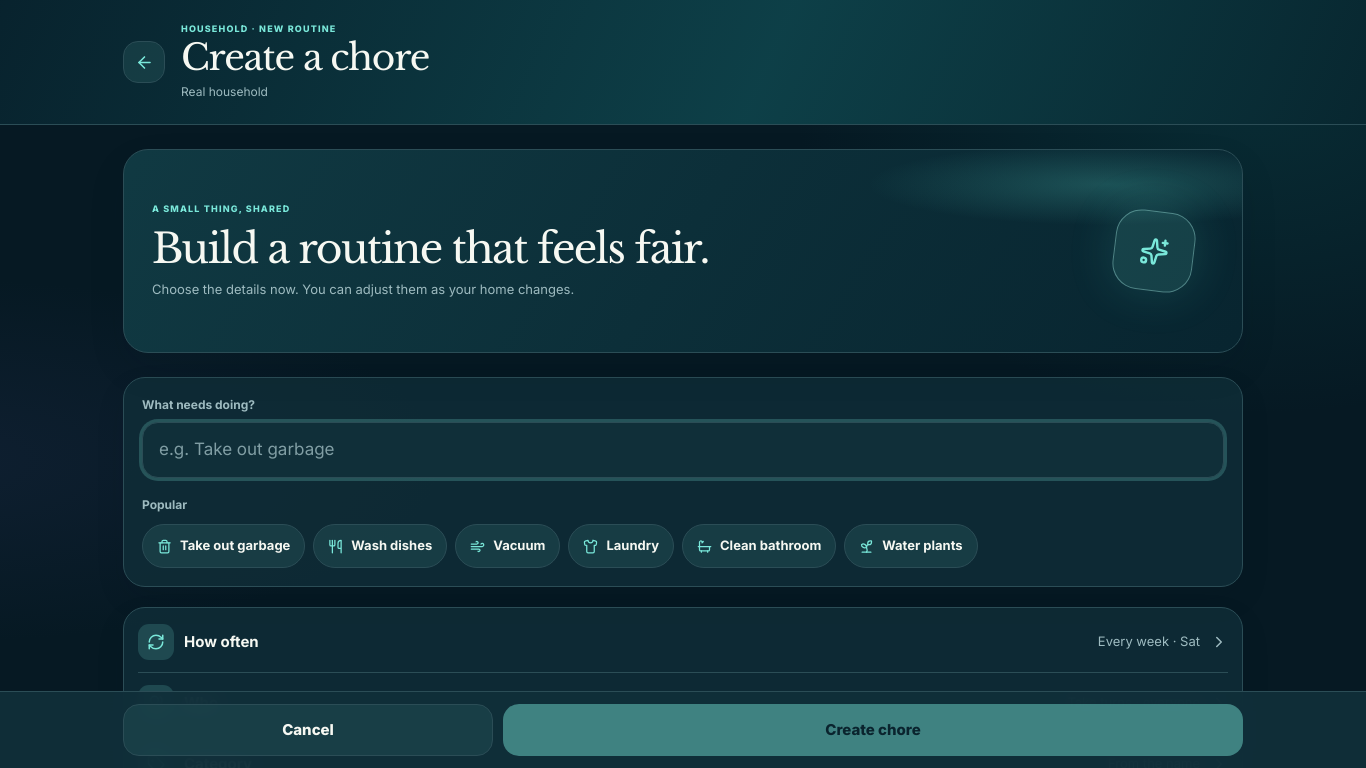
ChoreFormScreen · quick create › creates a chore from a Popular chip with the suggestion's full setup
The image size is (1366, 768).
Later steps or results of the test are not shown.
Expected: the field labelled "What needs doing?" is shown, [142, 422, 1224, 478]
Click the button "Take out garbage".
click(224, 546)  # box [142, 524, 305, 568]
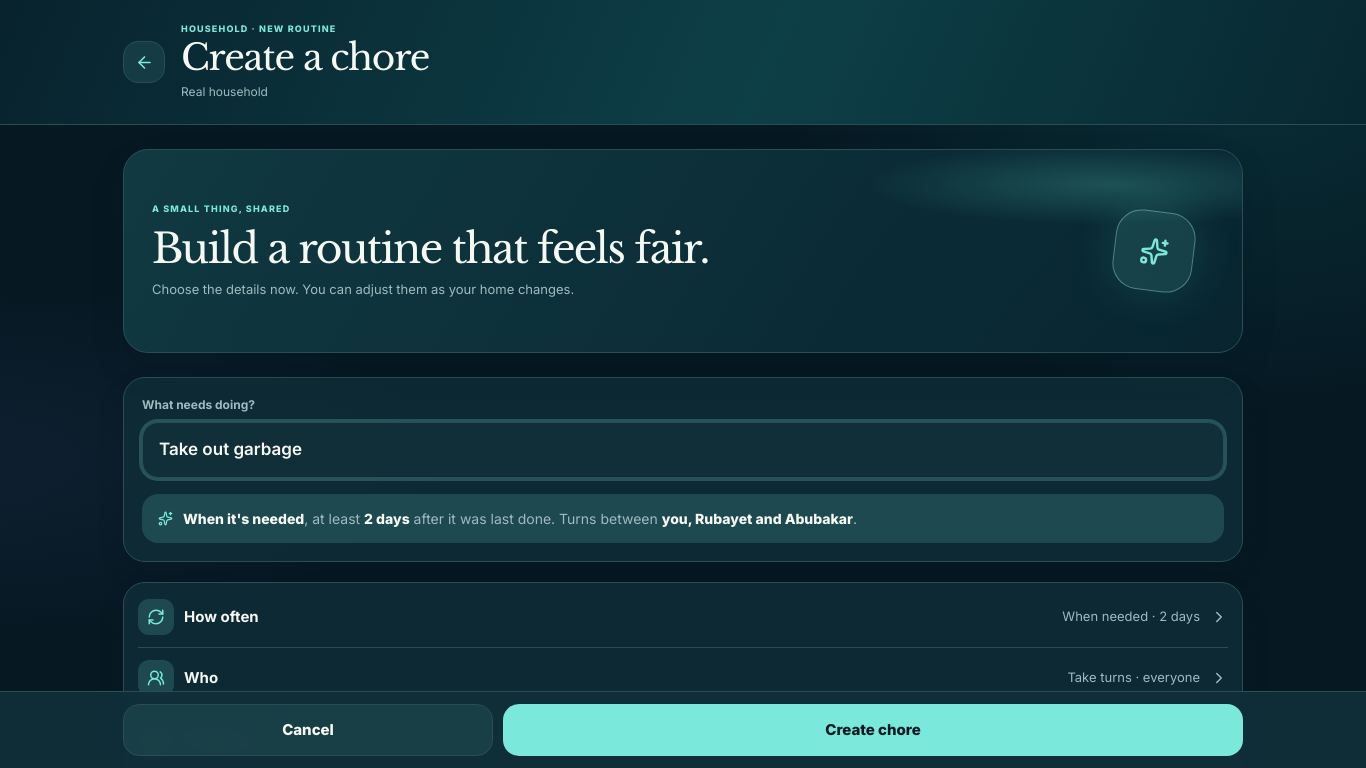
Result: the field labelled "What needs doing?" holds "Take out garbage" at [142, 422, 1224, 478]
Result: the element with test id "chore-summary" shows "When it's needed, at least 2 days after it was last done. Turns between you, Rubayet and Abubakar." at [142, 494, 1224, 543]
